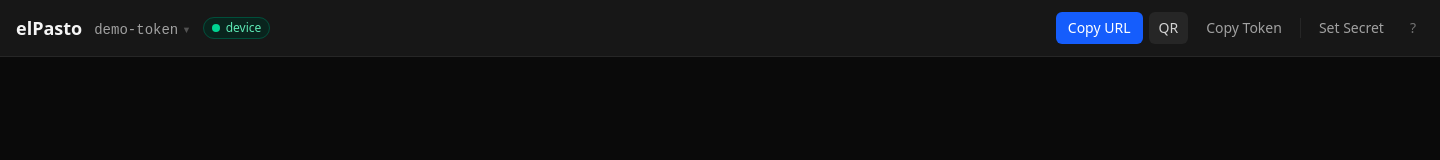
SessionHeader › shows closed state for peers with channelState 'closed'
Click the button with aria-label "Connection status".
click(236, 28)  # box [203, 17, 270, 39]
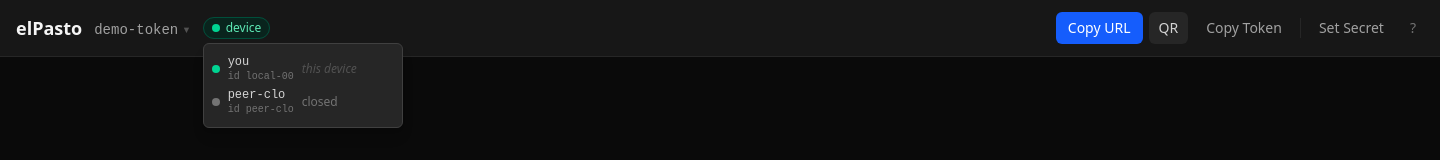
Expected: the text "closed" is shown, [302, 94, 338, 110]
